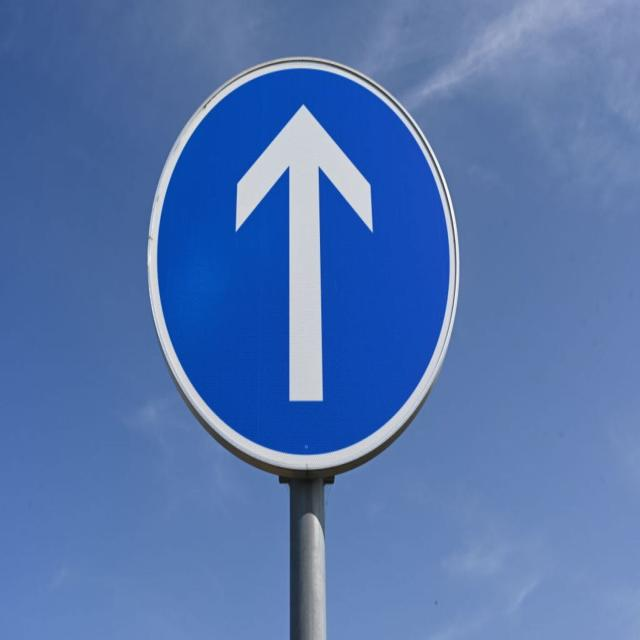STRAIGHT: (148, 57, 459, 637)
